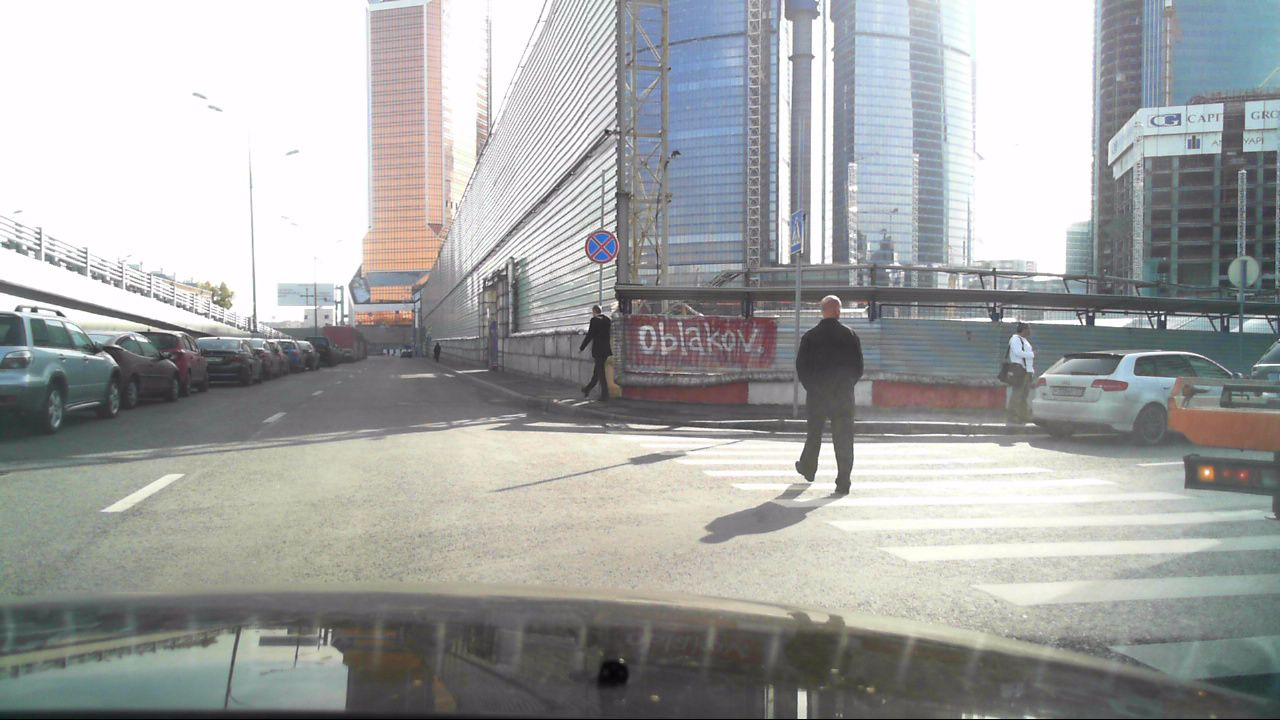No Parking: (588, 231, 618, 261)
